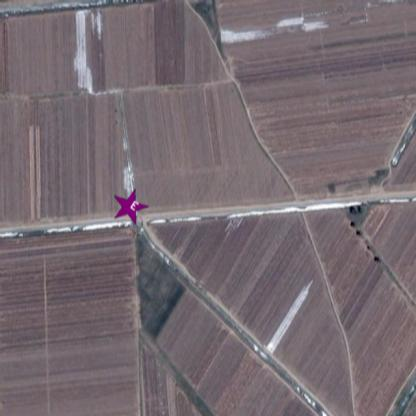E: (128, 199, 140, 213)
star: (112, 186, 149, 229)
